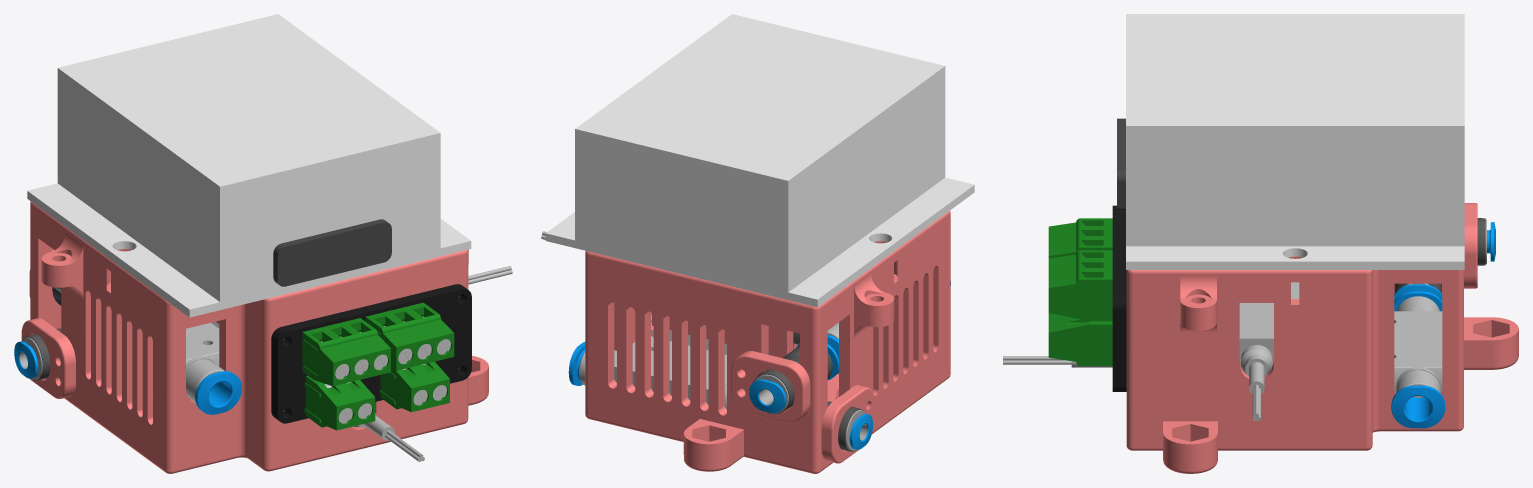
3 views of the same model, side by side, from view 1: azimuth 30°, elevation 25°; view 2: azimuth 150°, elevation 25°; view 3: azimuth 270°, elevation 25° (orthographic). The views are drawn at different scales.
Visible parts, largest first — view 1: Mirbuckboost-1 - Part, actuator_mount_2_bottom-1 - Part, actuator_mount_2_top-2 - Part, board_solenoid-1 - Part, Mirbuckboost-1 - Part 2, 3er Terminalblock_2-0.step-1 - Part, 3er Terminalblock_2-0step-1 - Part 2, 2er Terminalblock_2-0step-1 - Part 2, 2er Terminalblock_2-0.step-1 - Part, actuator_mount_2_nozzle_holder-2 - Part, _172973 QSP10-6stp-2 - Part 4, _717990 MHJ10-S-K-QS-6stp-1 - Part 2 (+3 smaller); view 2: Mirbuckboost-1 - Part, actuator_mount_2_bottom-1 - Part, actuator_mount_2_top-2 - Part, actuator_mount_2_nozzle_holder-1 - Part, actuator_mount_2_nozzle_holder-2 - Part, 153327_QSM_6_4-2 - Part 2, _717990 MHJ10-S-K-QS-6.stp-1 - Part, actuator_mount_2_holder_top-1 - Part, 153327_QSM_6_4-2 - Part, 153327_QSM_6_4-1 - Part 2, _172973 QSP10-6.stp-1 - Part, 153327_QSM_6_4-2 - Part 3; view 3: Mirbuckboost-1 - Part, actuator_mount_2_bottom-1 - Part, actuator_mount_2_top-2 - Part, 3er Terminalblock_2-0step-1 - Part 2, _717990 MHJ10-S-K-QS-6.stp-1 - Part, _936192 MHJ10-MFstp-1 - Part 3, 2er Terminalblock_2-0.step-1 - Part, board_solenoid-1 - Part, 3er Terminalblock_2-0.step-1 - Part, _172973 QSP10-6.stp-1 - Part, actuator_mount_2_nozzle_holder-1 - Part, Mirbuckboost-1 - Part 2 (+2 smaller).
Part boxes in pixels (<box>): Mirbuckboost-1 - Part: <box>27,14,471,317</box>; actuator_mount_2_bottom-1 - Part: <box>30,232,488,473</box>; actuator_mount_2_top-2 - Part: <box>30,201,468,331</box>; board_solenoid-1 - Part: <box>271,284,471,423</box>; Mirbuckboost-1 - Part 2: <box>273,219,391,286</box>; 3er Terminalblock_2-0.step-1 - Part: <box>302,318,390,386</box>; 3er Terminalblock_2-0step-1 - Part 2: <box>365,302,454,370</box>; 2er Terminalblock_2-0step-1 - Part 2: <box>304,375,375,430</box>; 2er Terminalblock_2-0.step-1 - Part: <box>379,361,449,412</box>; actuator_mount_2_nozzle_holder-2 - Part: <box>21,318,75,398</box>; _172973 QSP10-6stp-2 - Part 4: <box>195,371,241,414</box>; _717990 MHJ10-S-K-QS-6stp-1 - Part 2: <box>186,322,219,398</box>; Mirbuckboost-1 - Part: <box>545,14,974,307</box>; actuator_mount_2_bottom-1 - Part: <box>585,240,950,473</box>; actuator_mount_2_top-2 - Part: <box>585,211,950,336</box>; actuator_mount_2_nozzle_holder-1 - Part: <box>731,351,810,422</box>; actuator_mount_2_nozzle_holder-2 - Part: <box>821,385,874,463</box>; 153327_QSM_6_4-2 - Part 2: <box>749,343,838,413</box>; _717990 MHJ10-S-K-QS-6.stp-1 - Part: <box>614,336,726,404</box>; actuator_mount_2_holder_top-1 - Part: <box>768,326,793,357</box>; 153327_QSM_6_4-2 - Part: <box>753,345,832,414</box>; 153327_QSM_6_4-1 - Part 2: <box>849,413,872,449</box>; _172973 QSP10-6.stp-1 - Part: <box>568,342,585,385</box>; 153327_QSM_6_4-2 - Part 3: <box>754,374,788,413</box>; Mirbuckboost-1 - Part: <box>1126,14,1464,269</box>; actuator_mount_2_bottom-1 - Part: <box>1126,282,1518,473</box>; actuator_mount_2_top-2 - Part: <box>1126,256,1463,318</box>; 3er Terminalblock_2-0step-1 - Part 2: <box>1048,250,1112,321</box>; _717990 MHJ10-S-K-QS-6.stp-1 - Part: <box>1394,308,1442,394</box>; _936192 MHJ10-MFstp-1 - Part 3: <box>1239,282,1299,420</box>; 2er Terminalblock_2-0.step-1 - Part: <box>1048,313,1112,365</box>; board_solenoid-1 - Part: <box>1112,205,1126,391</box>; 3er Terminalblock_2-0.step-1 - Part: <box>1048,218,1112,258</box>; _172973 QSP10-6.stp-1 - Part: <box>1391,385,1445,428</box>; actuator_mount_2_nozzle_holder-1 - Part: <box>1464,203,1477,288</box>; Mirbuckboost-1 - Part 2: <box>1117,118,1125,211</box>.
Bounding box in the file's own units: 0.1088 × 0.075 × 0.1128.
